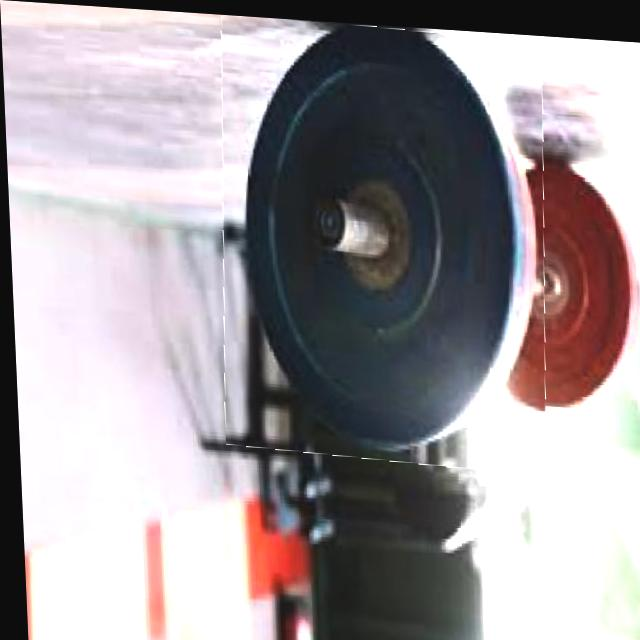barbell: (212, 12, 554, 467)
